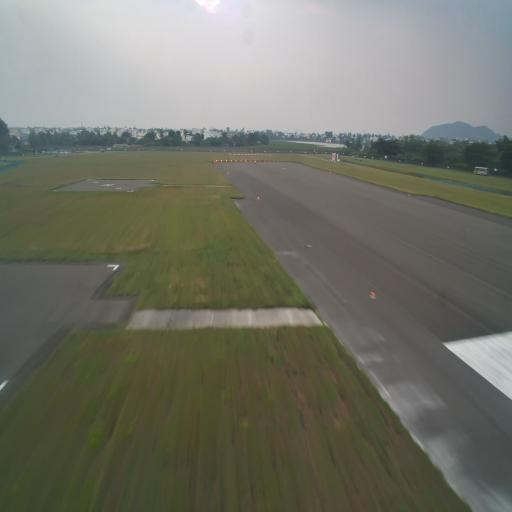off: (307, 242, 313, 250)
on: (370, 288, 376, 302), (408, 191, 412, 198), (257, 196, 260, 202), (329, 170, 332, 175), (220, 159, 223, 163), (227, 171, 229, 175), (216, 159, 218, 163), (226, 159, 228, 163), (235, 159, 237, 163), (240, 159, 242, 163), (254, 160, 256, 163), (259, 160, 261, 163), (264, 160, 266, 163), (268, 160, 270, 163), (277, 160, 279, 163), (230, 160, 232, 162), (244, 160, 246, 162), (250, 160, 252, 162), (214, 160, 215, 163), (273, 160, 274, 163)
